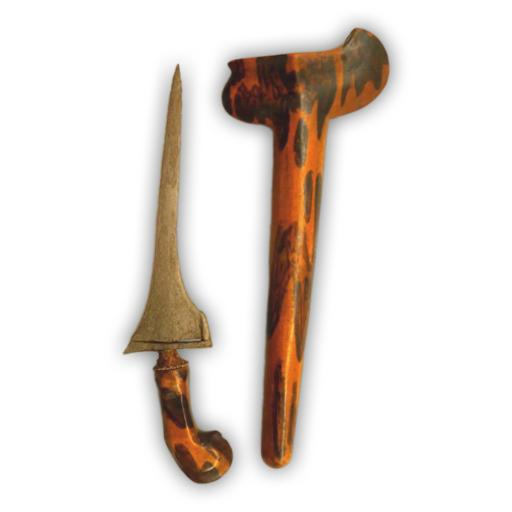Axe: (228, 4, 391, 462)
